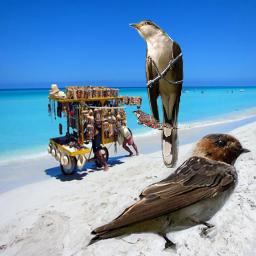Cuckoo: (129, 20, 184, 168), (131, 109, 179, 132)
Swallow: (81, 130, 252, 254)
